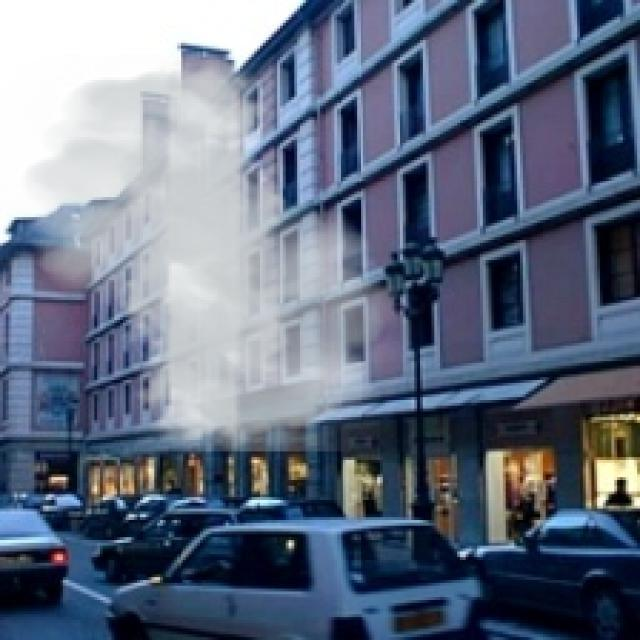Smoke: (0, 54, 406, 452)
